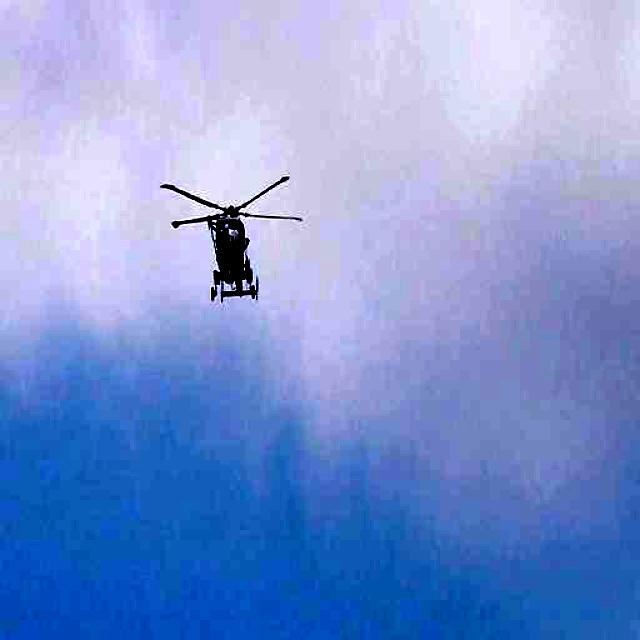drone: (156, 161, 326, 325)
